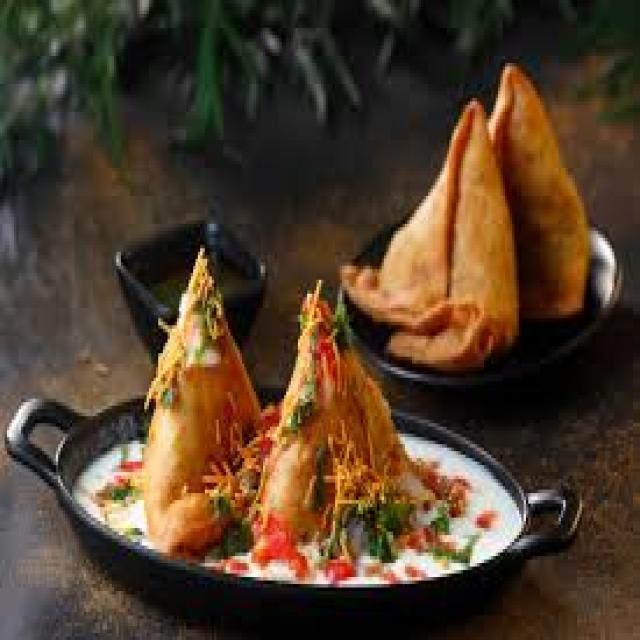SAMOSA: (337, 97, 516, 370), (140, 251, 273, 550), (249, 294, 417, 529)
